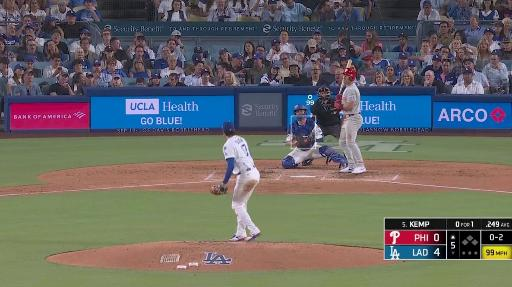pitcher: (211, 121, 270, 242)
